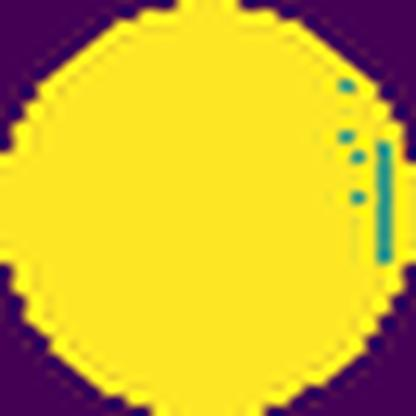Near-full: (0, 0, 375, 416)
